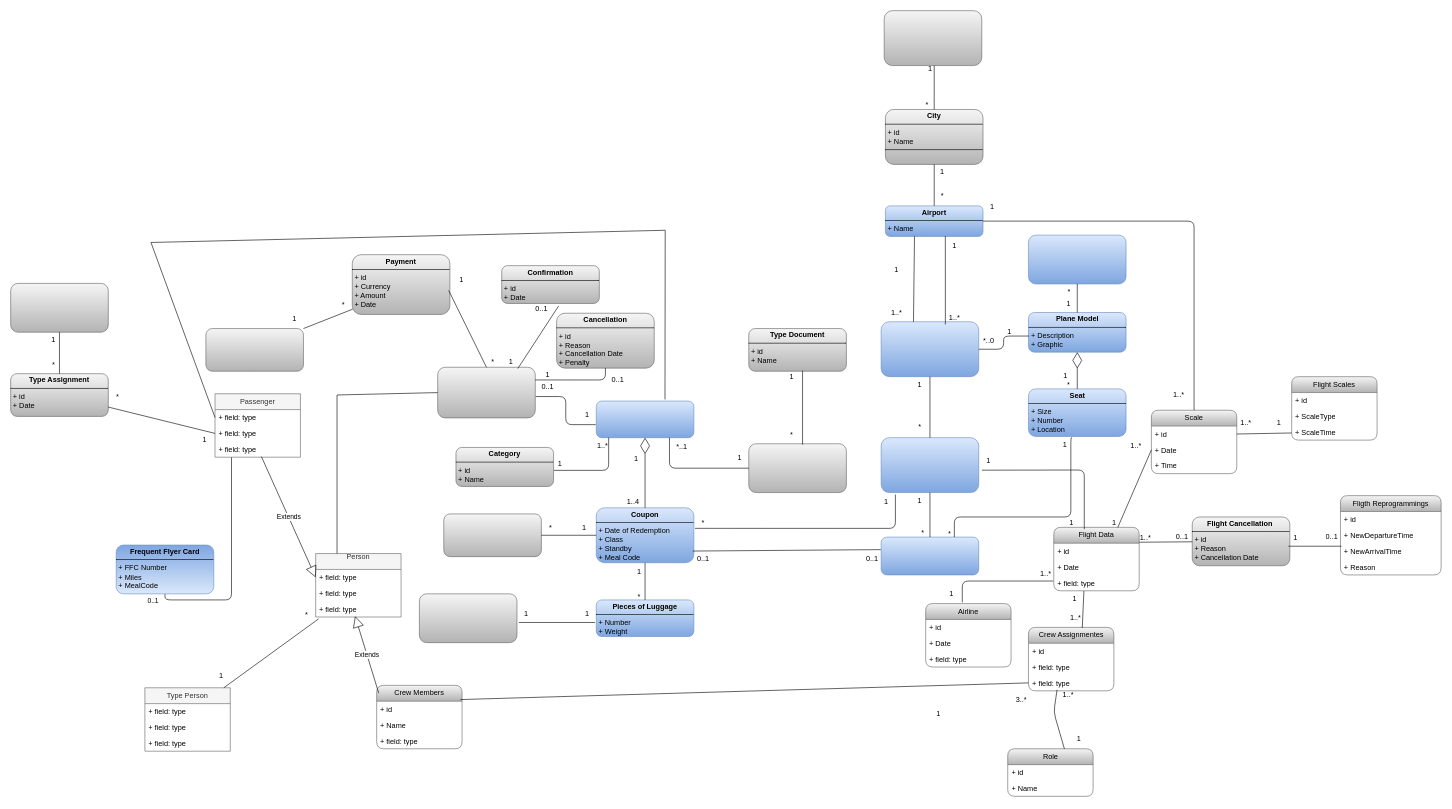
This 1452x809 diagram has some shape labels left out. The shapes that lost their labels are listed below. From the top down, each one's centre as x and y in pixels, then its label:
At point 933,38: "Country + id + name".
At point 1077,259: "Airplane + Registration Number + Begin of Operation + Status".
At point 59,307: "Passenger Type + id + Name + Description".
At point 254,349: "Payment Type + id + Name".
At point 930,349: "Flight Number + Departure Time + Description + Type + Airline".
At point 486,392: "Reserve + id + State + Reservation Date".
At point 645,419: "Ticket + Ticketing Code + Number".
At point 797,468: "Document + ci + Date of Issue + Valid Date".
At point 930,465: "Flight + Boarding Time + Flight Date + Gate + Check-in Counter".
At point 492,535: "Boarding Pass + Id + Gate".
At point 930,555: "Available Seat + id".
At point 468,618: "Baggege Check-in + Id + Prohibited Items + Weigth".
